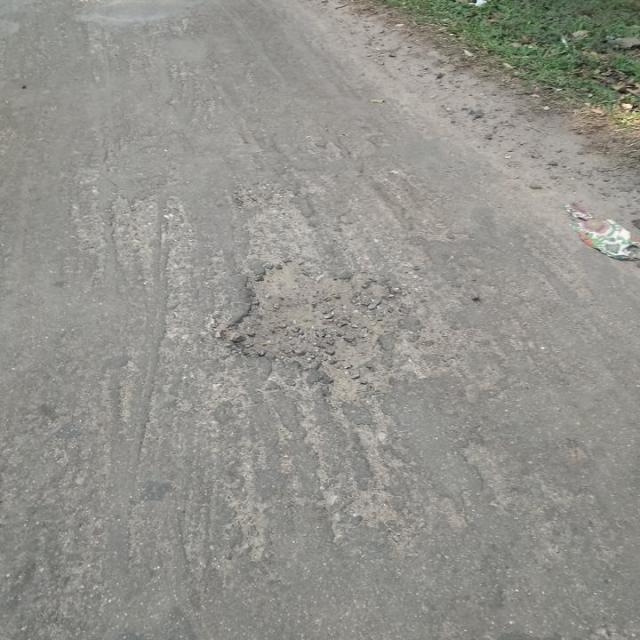pothole: (224, 256, 409, 372)
